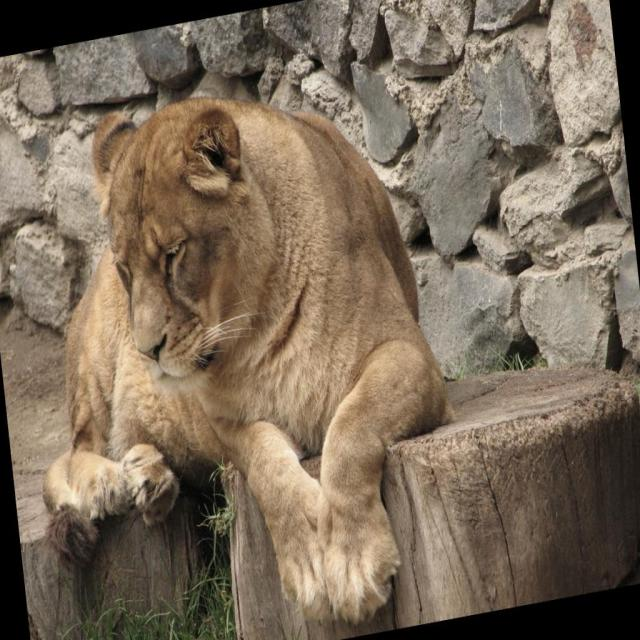Lion: (1, 52, 478, 639)
